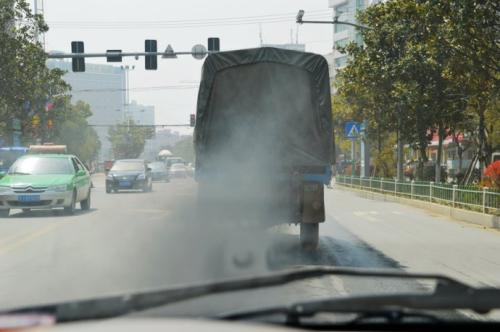smoke: (156, 117, 287, 266)
